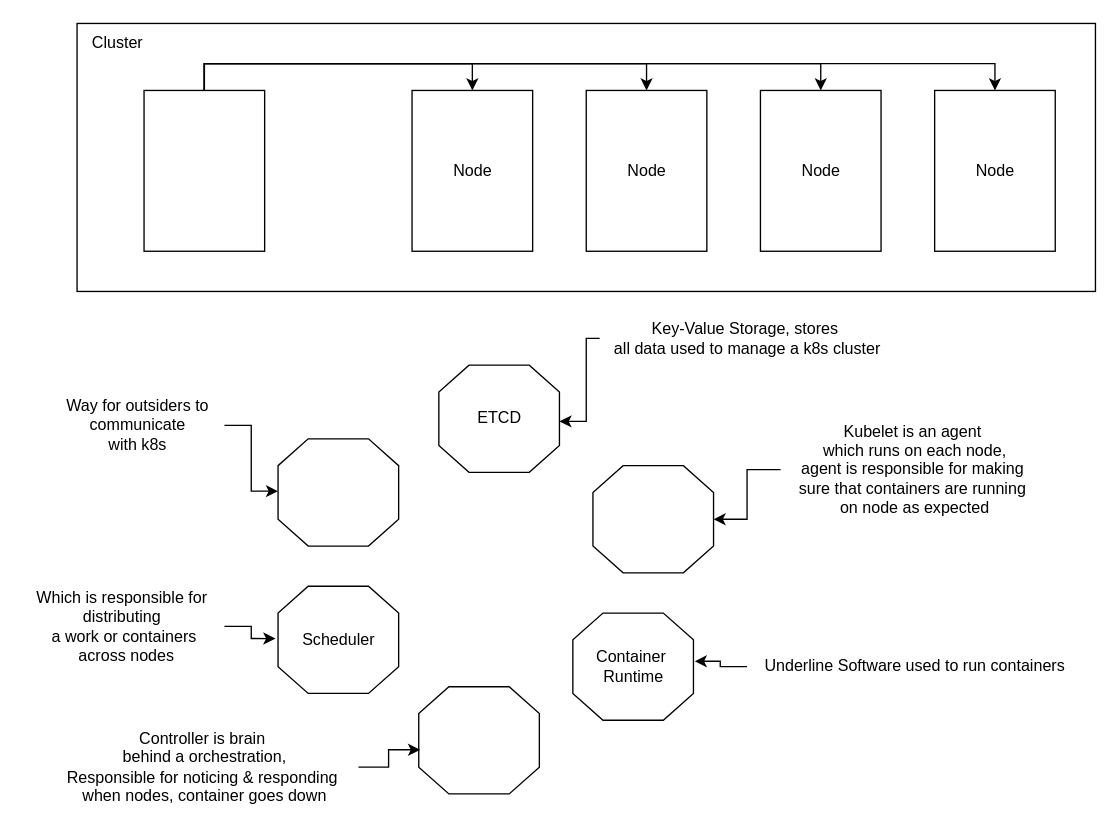
The diagram is 1119 pixels wide and 838 high, and some of its shapes have lost their labels. The box of each missing label's shape, as (x1, y1, x2, y2) in pixels:
API Server: (277, 438, 399, 546)
Controller: (417, 685, 539, 794)
Kubelet: (592, 464, 714, 573)
Master Node: (143, 89, 265, 251)
